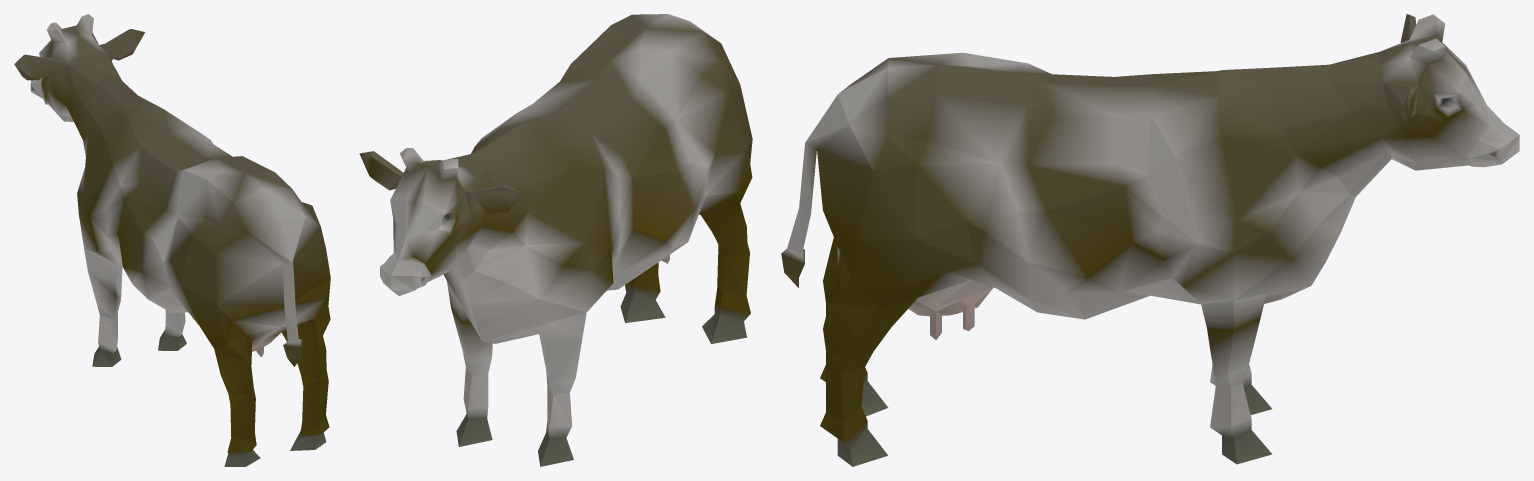
File: cow.glb
The picture shows the model from 3 angles, left to right: view 1: azimuth 30°, elevation 25°; view 2: azimuth 150°, elevation 25°; view 3: azimuth 270°, elevation 25°; orthographic projection. The views are drawn at different scales.
Visible parts, largest first — view 1: ent; view 2: ent; view 3: ent.
Boxes of the visible parts, bbox=[...] form: ent: bbox=[14, 14, 330, 466]; ent: bbox=[359, 14, 752, 466]; ent: bbox=[781, 14, 1519, 466].
Bounding box in the file's own units: 0.625 × 1.17 × 1.94.
